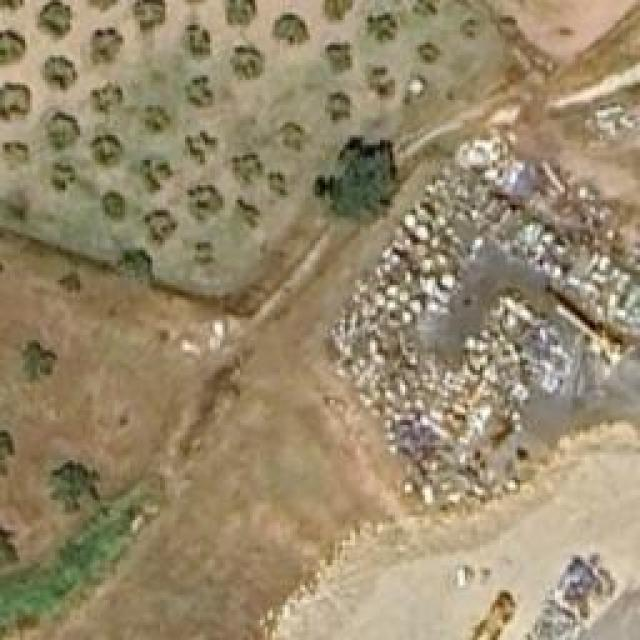Tree: (318, 138, 403, 221), (53, 460, 93, 515), (34, 0, 77, 42), (23, 340, 58, 383), (40, 55, 78, 90), (45, 112, 80, 150), (90, 27, 123, 65), (115, 248, 153, 281), (275, 13, 310, 48), (0, 80, 30, 120), (140, 158, 173, 193), (145, 208, 178, 243), (132, 0, 165, 32), (230, 48, 265, 78), (180, 25, 210, 60), (185, 185, 215, 220), (93, 83, 123, 116), (230, 153, 260, 186), (278, 118, 308, 151), (225, 0, 258, 28), (325, 43, 353, 76), (368, 13, 398, 43), (0, 30, 25, 65), (0, 528, 20, 571), (50, 163, 78, 193), (92, 135, 120, 165), (185, 130, 213, 160), (185, 78, 213, 108), (325, 93, 350, 126), (190, 238, 215, 271), (103, 188, 126, 221), (235, 197, 260, 225), (0, 425, 15, 470), (58, 270, 83, 295), (418, 43, 443, 66), (145, 108, 168, 133), (325, 0, 353, 20), (268, 170, 288, 198), (0, 0, 25, 15)
